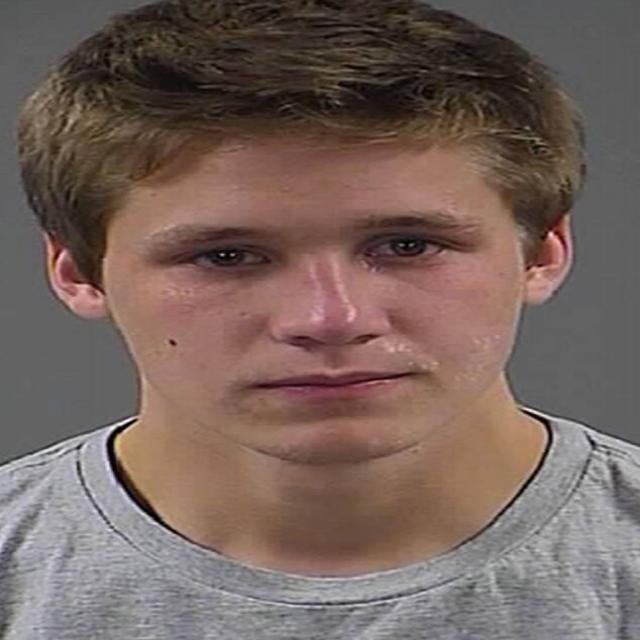earlobe: (74, 288, 110, 322), (522, 271, 556, 305)
eye: (183, 245, 271, 268), (364, 236, 447, 259)
nose: (278, 331, 398, 368)
wholeear: (42, 223, 111, 321), (522, 206, 574, 304)
